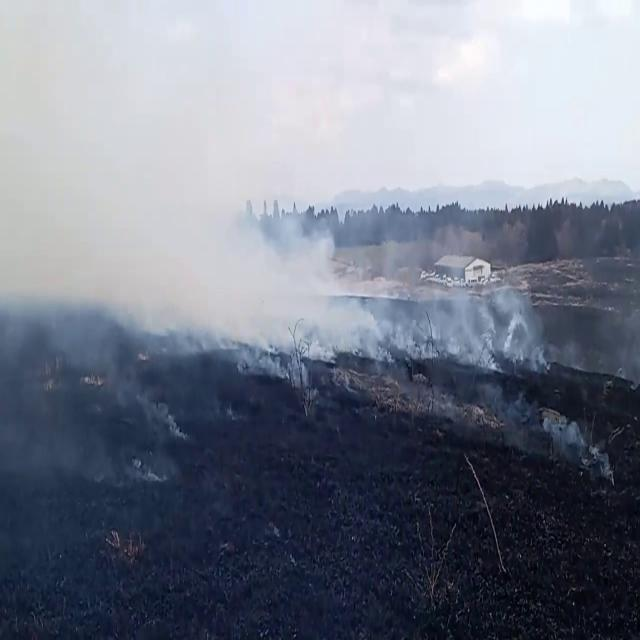Smoke: (0, 12, 362, 376), (538, 398, 614, 482)
